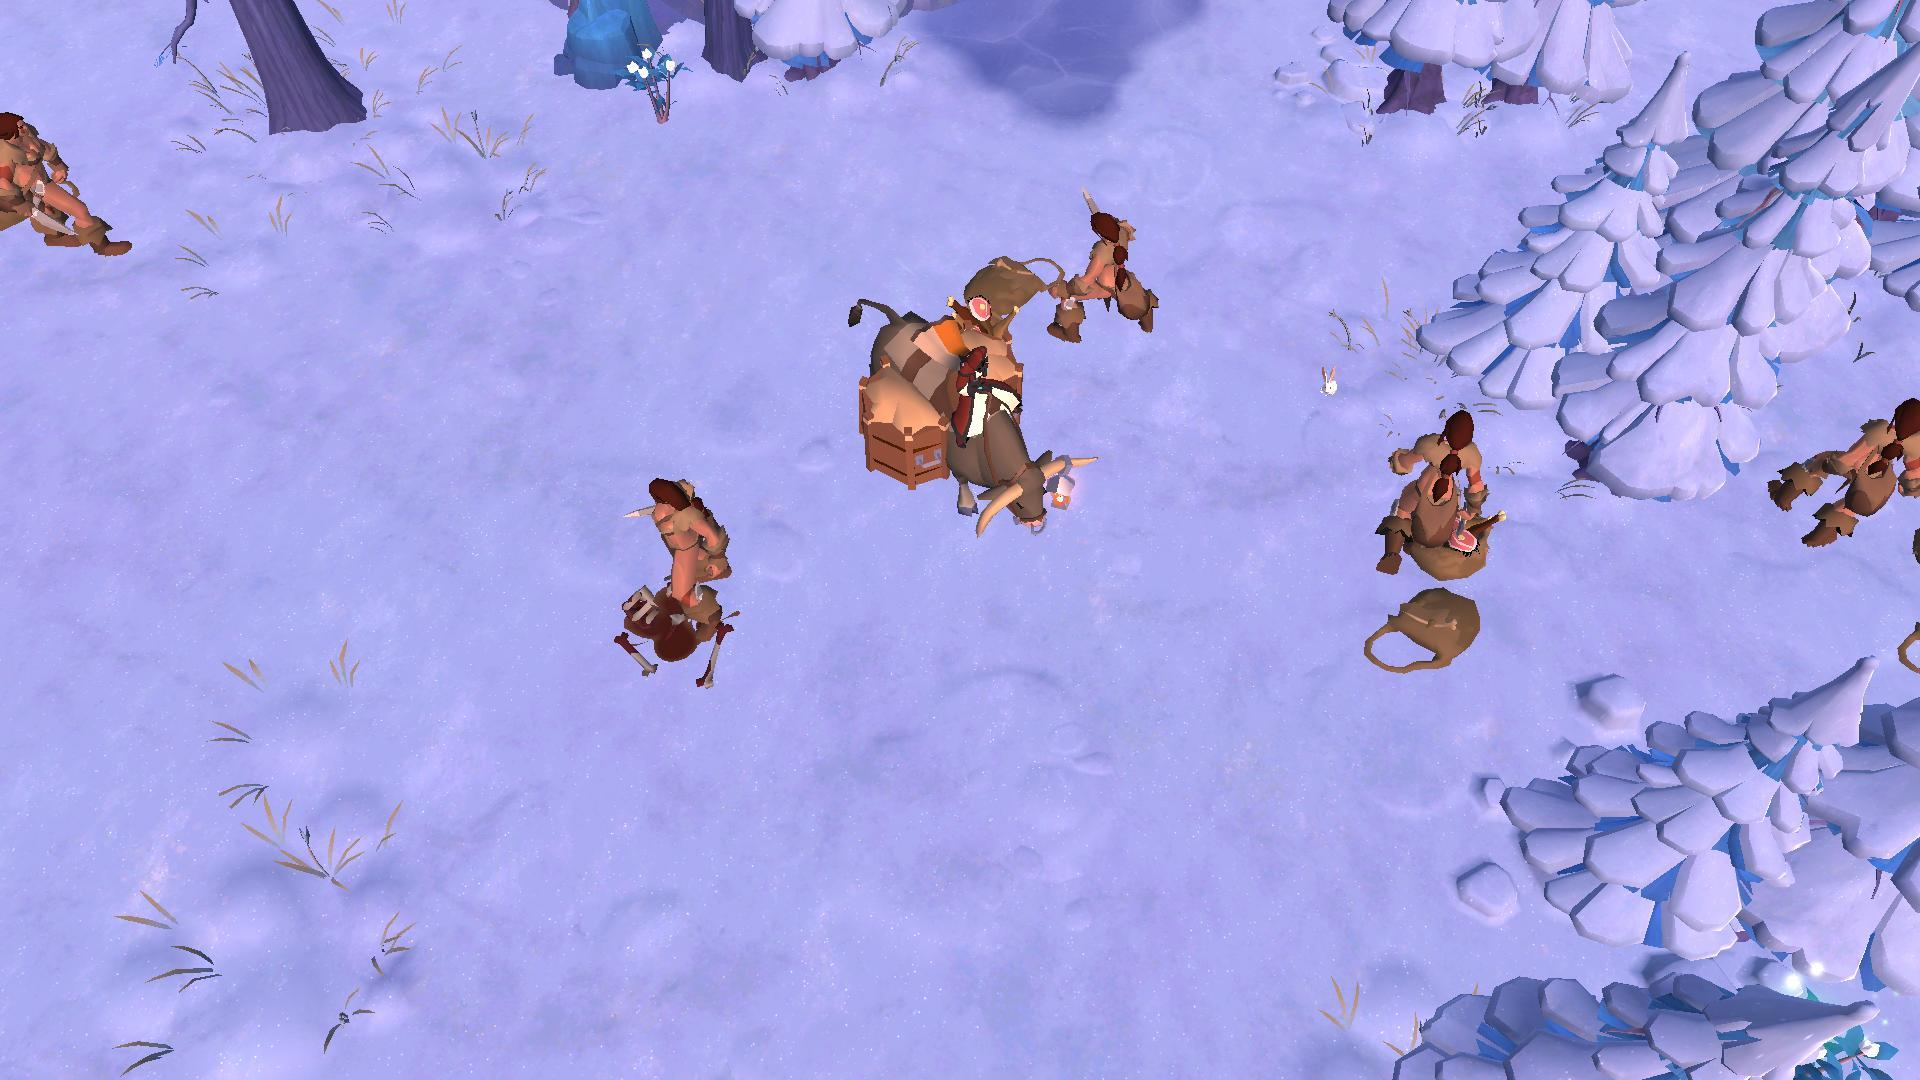enemy_factionKeeper: (1759, 393, 1920, 553), (0, 109, 136, 262), (1027, 194, 1166, 339), (637, 468, 748, 646), (1371, 400, 1486, 559)
fiber_t4: (622, 44, 686, 123)
rock_t4: (542, 0, 659, 99)
